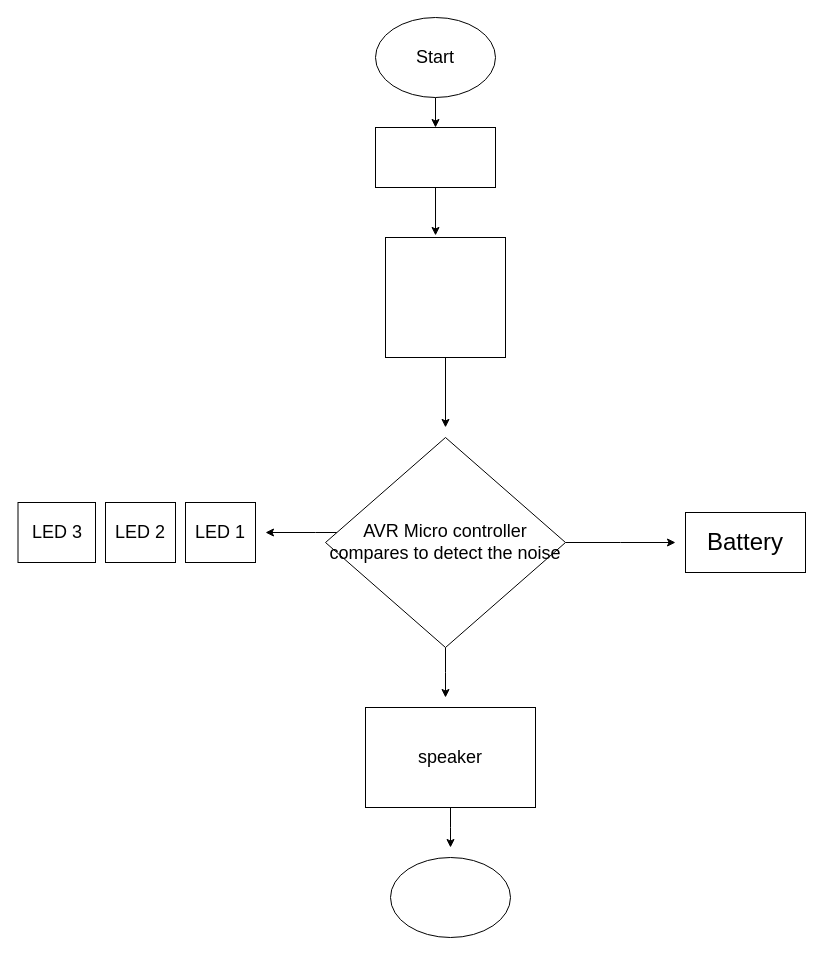
This 823x955 diagram has some shape labels left out. The centre of each missing label's shape, as x and y in pixels:
"End" goes at pixel 450 897.
"LDR" goes at pixel 435 157.
"LED light" goes at pixel 445 297.
